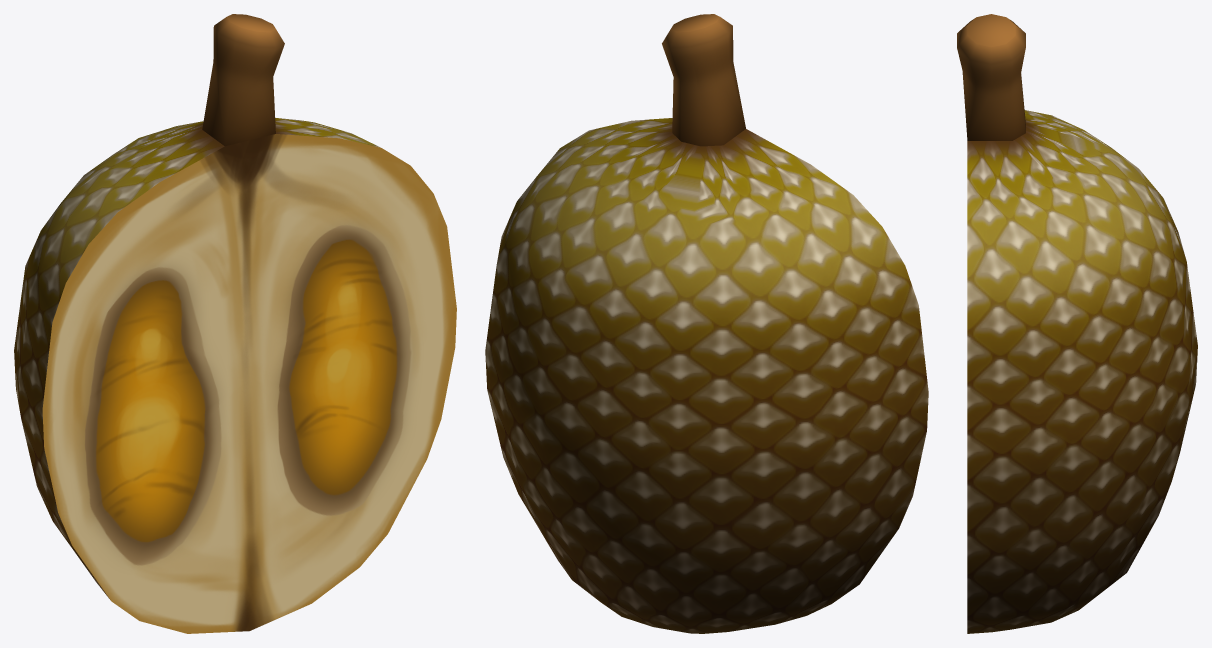
File: Durian_Half.fbx
3 renders of one model, left to right at view 1: azimuth 30°, elevation 25°; view 2: azimuth 150°, elevation 25°; view 3: azimuth 270°, elevation 25°, orthographic.
Visible parts, largest first — view 1: Durian_Half; view 2: Durian_Half; view 3: Durian_Half.
Boxes of the visible parts, x1,y1,x2,y2 form: Durian_Half: (14,14,456,633); Durian_Half: (485,14,928,633); Durian_Half: (957,14,1197,633).
Size of the model in its own units: 80.7 by 112 by 40.89.
Materials: 1 (1 with a texture image).
